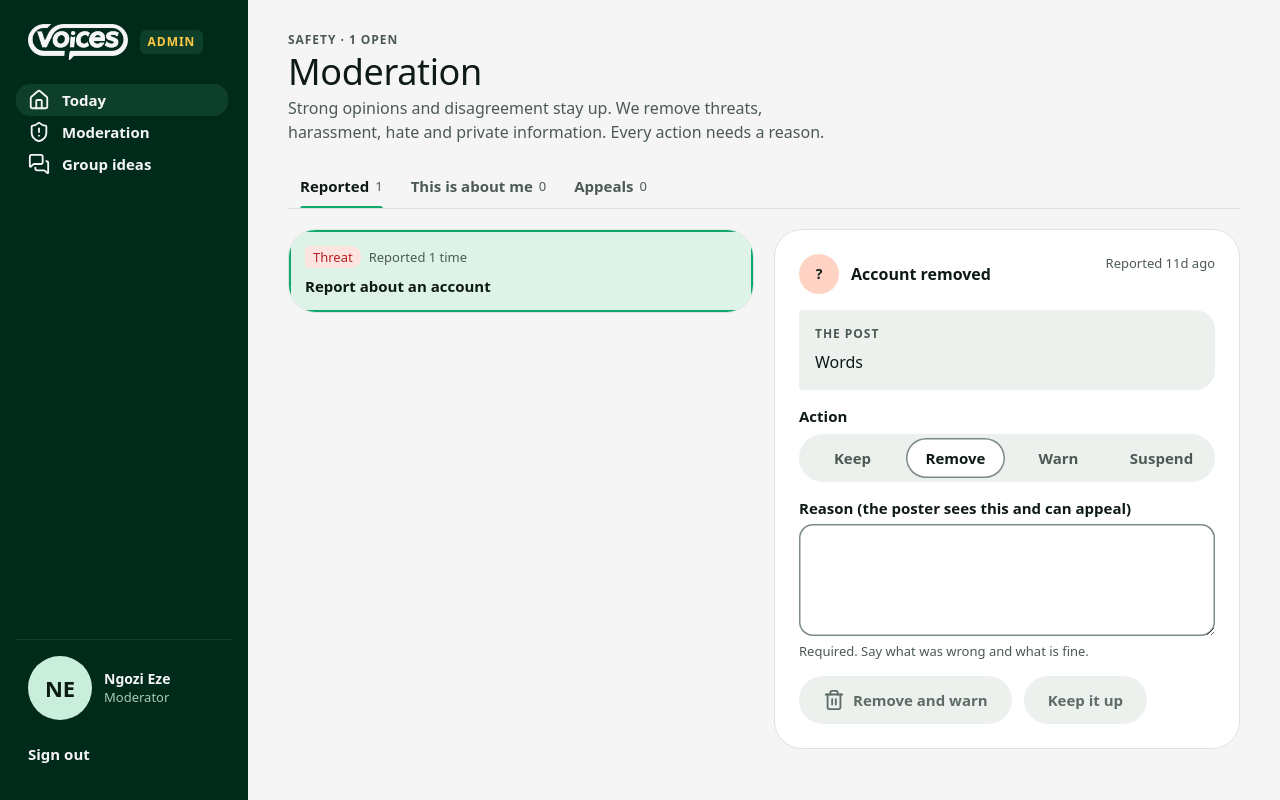
Test: G2 and G3: moderation › Suspend on an account item does not say a post comes down
Expected: the element named "Moderation queues" is shown, [288,164,1240,209]
Click the tab "Suspend".
click(1162, 458)  # box [1112,438,1211,478]
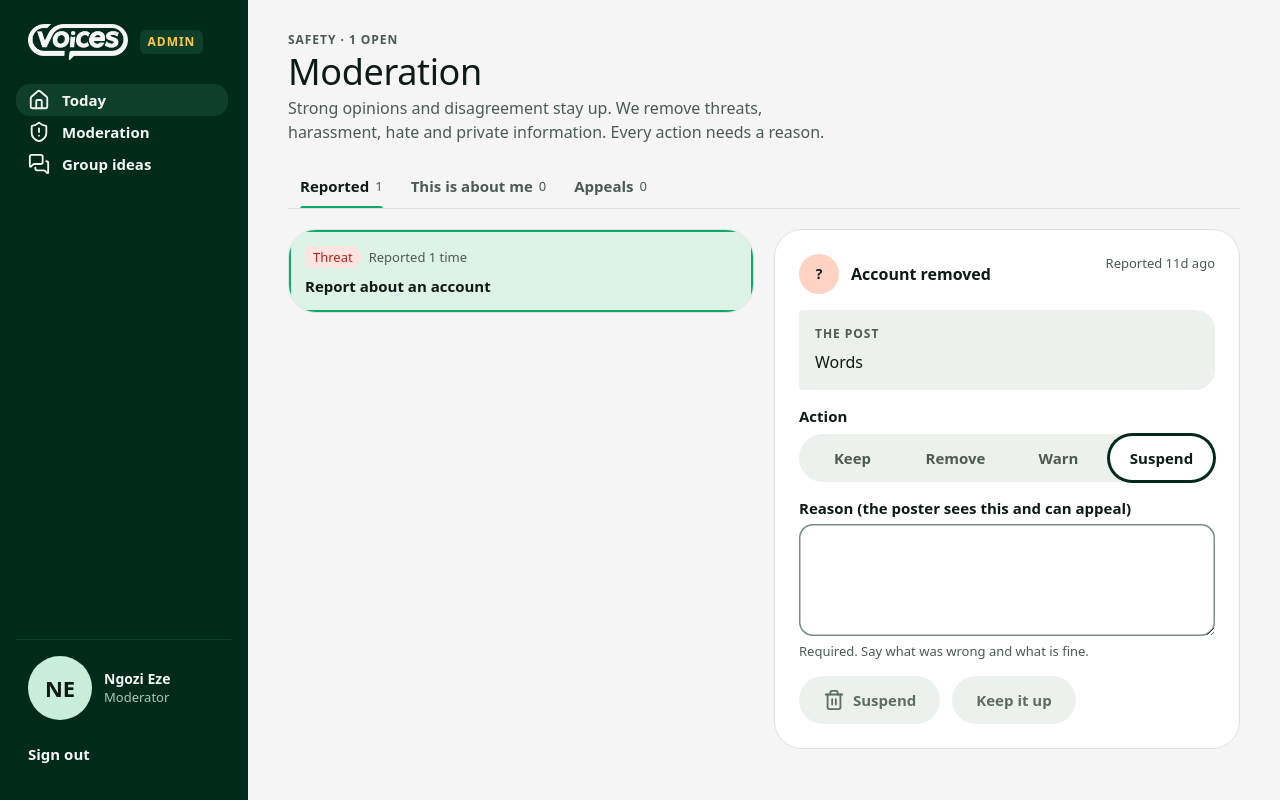
Result: the button "Suspend" is shown at [799,676,940,724]
